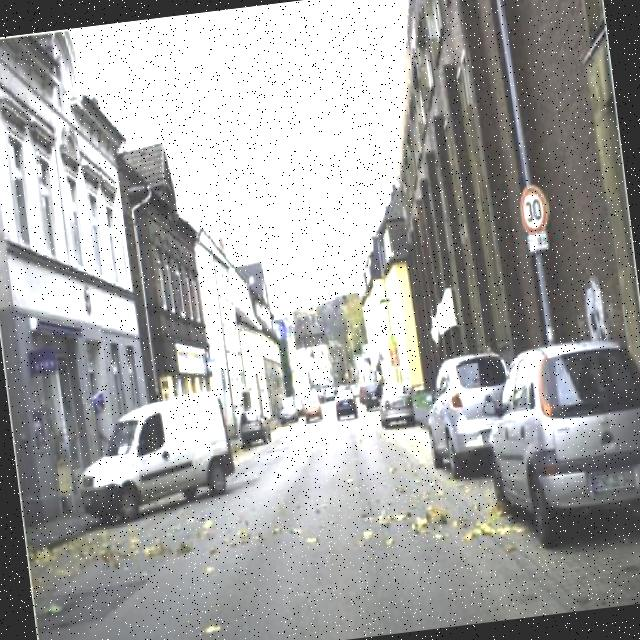Ograniczenie predkosci do 30: (515, 181, 550, 238)
